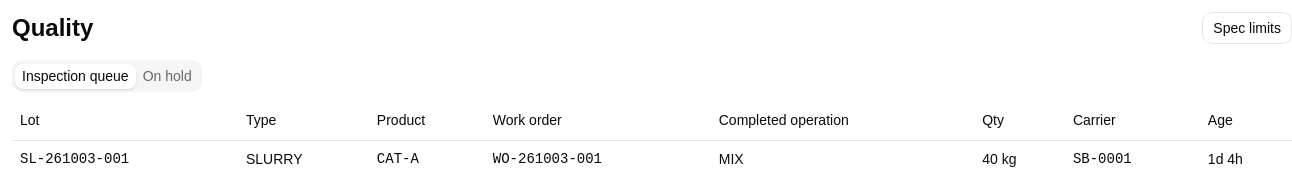
Test: QualityPage › hides disposition action for operator
Step 1. Click the tab "On hold" → (167, 76), box [136,64,199,88]
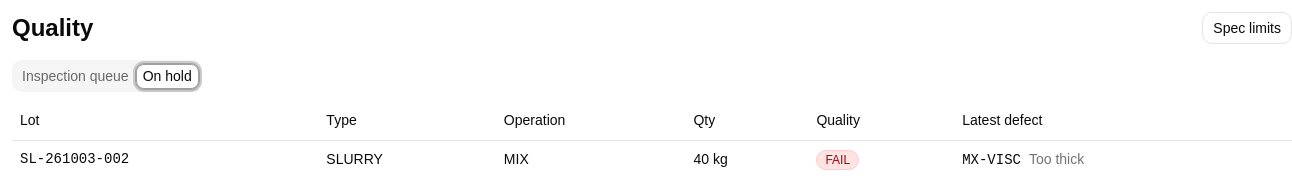
Result: the link "SL-261003-002" is shown at [20,151,129,167]
